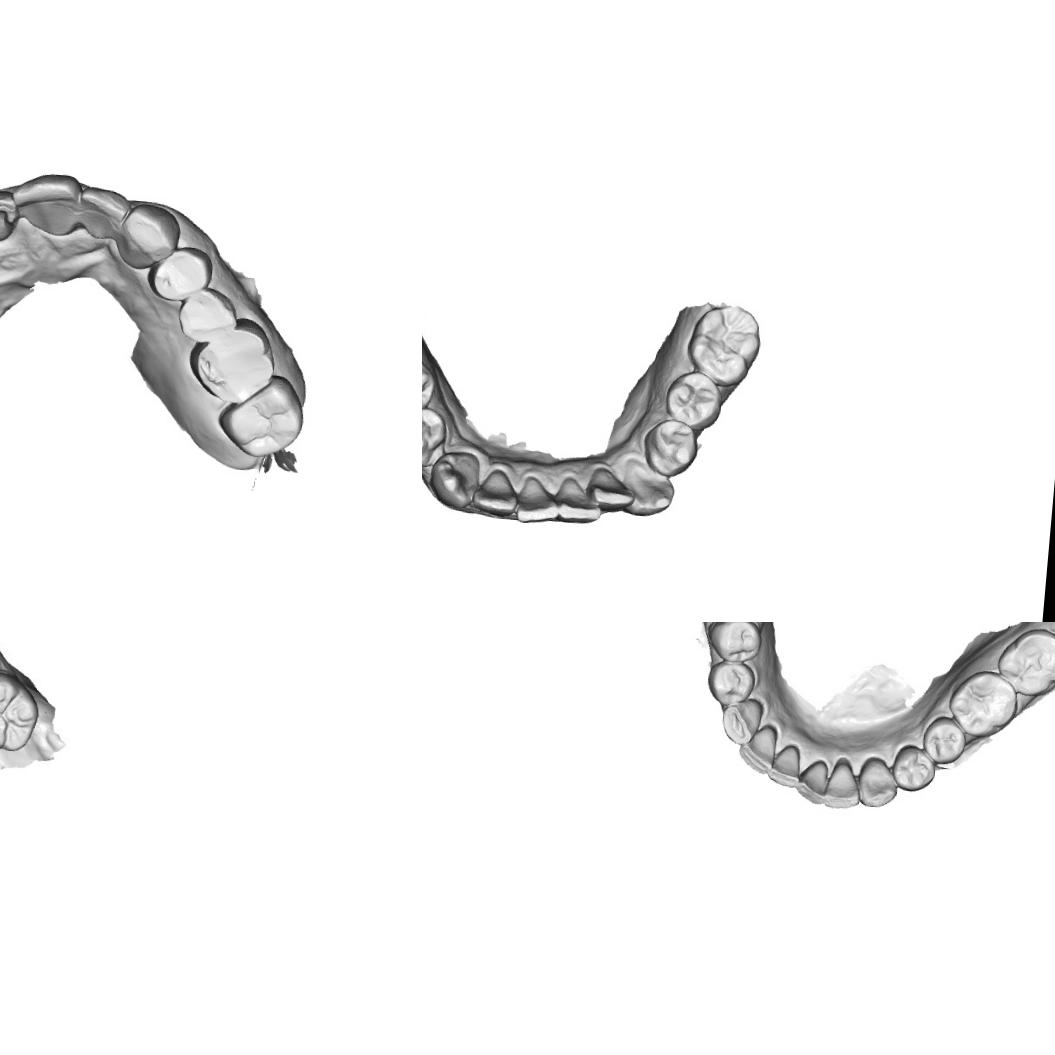canine: (113, 201, 180, 272), (616, 456, 678, 520), (425, 446, 481, 514), (854, 754, 900, 809), (718, 696, 764, 746)
incisor: (7, 158, 86, 242), (71, 178, 132, 244), (550, 472, 604, 528), (470, 464, 522, 522), (512, 471, 562, 530), (584, 463, 637, 514), (822, 754, 864, 811), (736, 720, 779, 775), (792, 756, 830, 804), (765, 742, 802, 788), (0, 180, 18, 243)
molar: (184, 316, 280, 408), (213, 370, 305, 465), (683, 302, 762, 390), (944, 666, 1020, 740), (993, 624, 1055, 699), (0, 668, 47, 755)
premolar: (147, 241, 214, 306), (172, 285, 238, 348), (638, 415, 701, 481), (661, 368, 725, 432), (704, 658, 757, 707), (889, 742, 938, 794), (920, 713, 968, 766), (704, 622, 763, 664), (422, 405, 452, 471), (422, 351, 443, 421)
